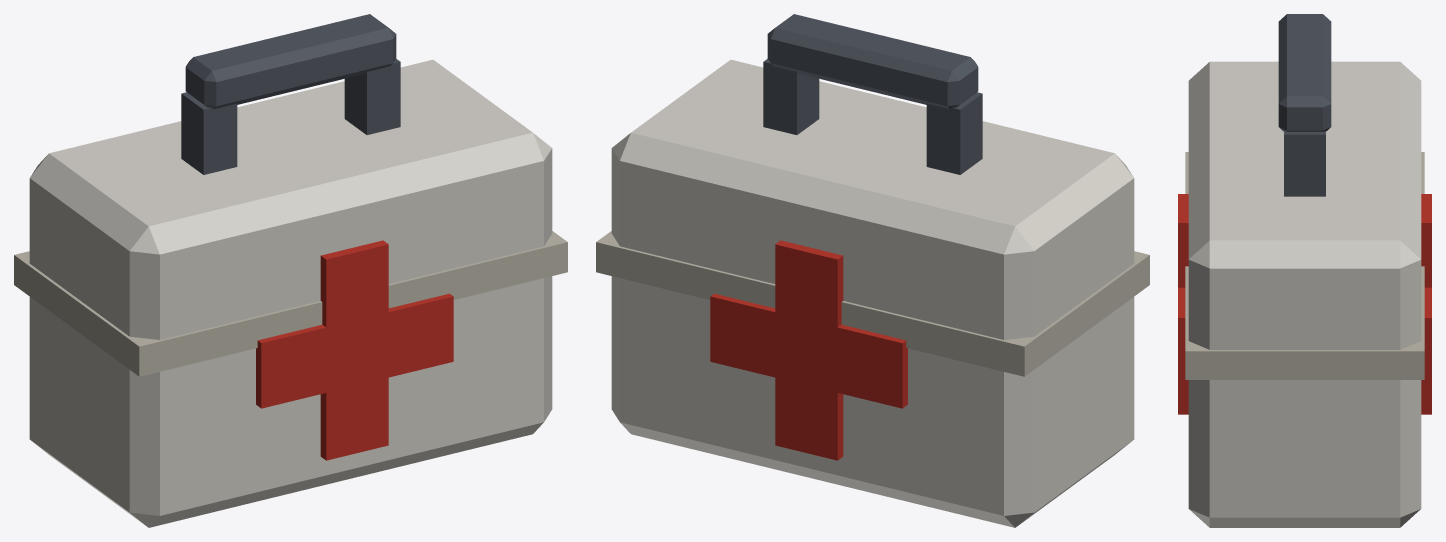
Rendered from medkit.glb.
The picture shows the model from 3 angles, left to right: view 1: azimuth 30°, elevation 25°; view 2: azimuth 150°, elevation 25°; view 3: azimuth 270°, elevation 25°; orthographic projection. The views are drawn at different scales.
Parts seen in each view (by area): view 1: Medkit; view 2: Medkit; view 3: Medkit.
Part boxes in pixels (left/top/right/bottom): Medkit: left=14, top=14, right=567, bottom=527; Medkit: left=596, top=14, right=1149, bottom=527; Medkit: left=1178, top=14, right=1431, bottom=527.
Bounding box in the file's own units: 0.446 × 0.4 × 0.24.
